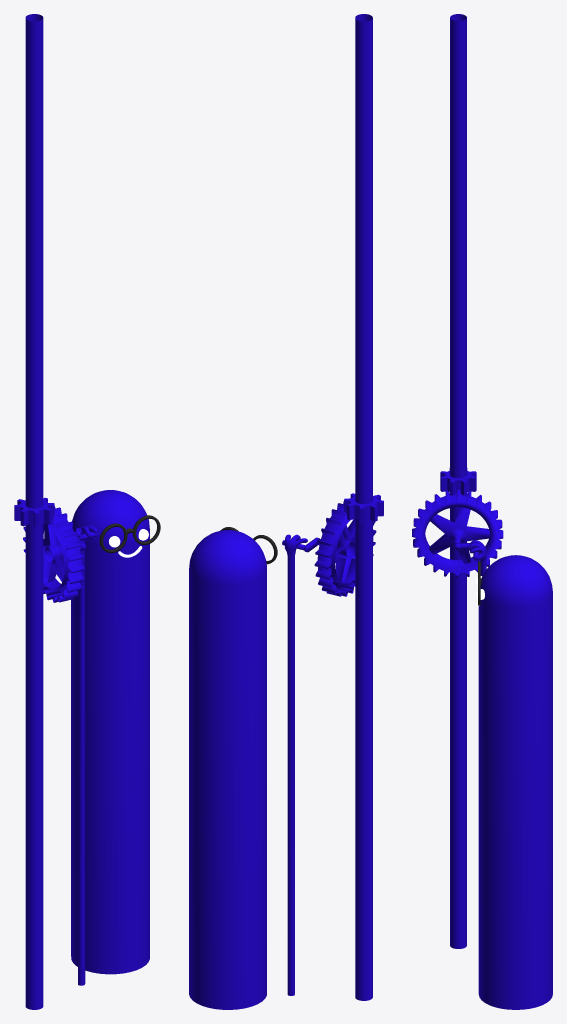
Rendered from mechanism.glb.
3 renders of one model, left to right at view 1: azimuth 30°, elevation 25°; view 2: azimuth 150°, elevation 25°; view 3: azimuth 270°, elevation 25°, orthographic. The views are drawn at different scales.
Visible parts, largest first — view 1: me, pole, hand, large-gear, small-gear, glasses; view 2: me, pole, hand, large-gear, small-gear; view 3: me, pole, large-gear, small-gear, hand.
Part boxes in pixels (bbox=[...]): me: bbox=[71, 490, 149, 974]; pole: bbox=[25, 14, 43, 1009]; hand: bbox=[75, 525, 97, 985]; large-gear: bbox=[23, 506, 98, 602]; small-gear: bbox=[14, 497, 54, 527]; glasses: bbox=[99, 515, 160, 553]; me: bbox=[189, 530, 266, 1009]; pole: bbox=[355, 14, 372, 1000]; hand: bbox=[284, 534, 307, 995]; large-gear: bbox=[282, 501, 376, 596]; small-gear: bbox=[344, 493, 383, 522]; me: bbox=[478, 555, 552, 1009]; pole: bbox=[450, 14, 466, 948]; large-gear: bbox=[412, 489, 503, 578]; small-gear: bbox=[440, 468, 476, 495]; hand: bbox=[467, 540, 486, 575].
Size of the model in its own units: 4.6 by 27.67 by 3.8.
